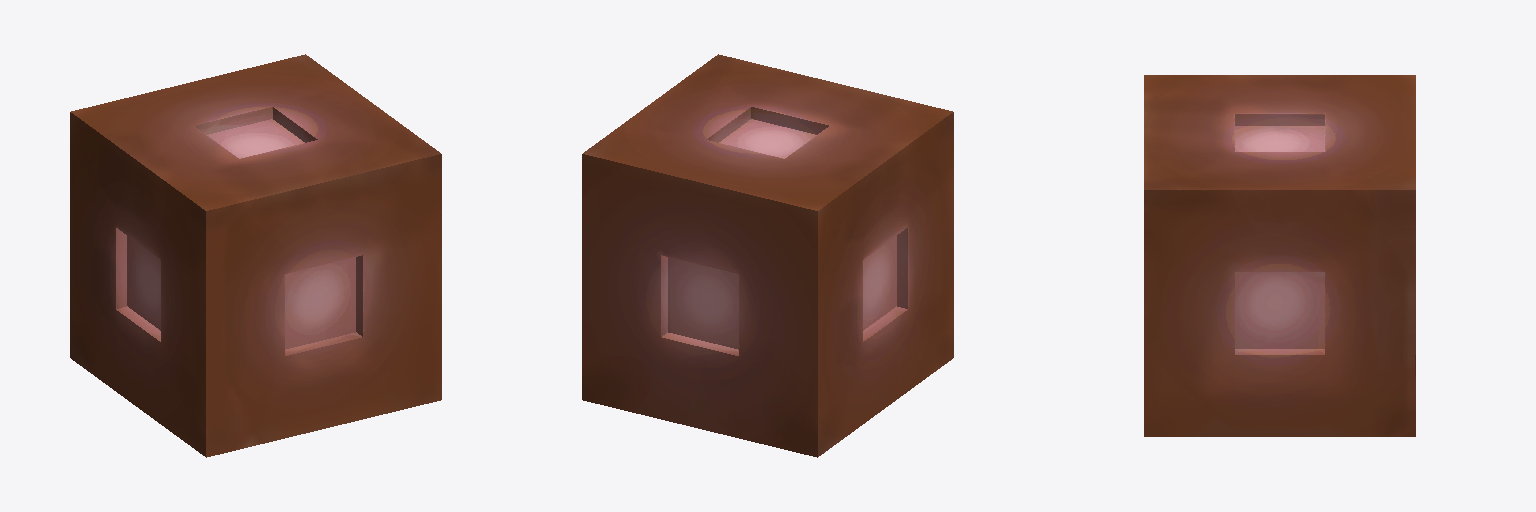
3 views of the same model, side by side, from view 1: azimuth 30°, elevation 25°; view 2: azimuth 150°, elevation 25°; view 3: azimuth 270°, elevation 25° (orthographic).
Parts seen in each view (by area): view 1: Cube; view 2: Cube; view 3: Cube.
Part boxes in pixels (x1,y1,x2,y2): Cube: (70, 54, 441, 457); Cube: (582, 54, 953, 457); Cube: (1144, 75, 1415, 436).
Size of the model in its own units: 2 by 2 by 2.
1 materials, 1 textured.